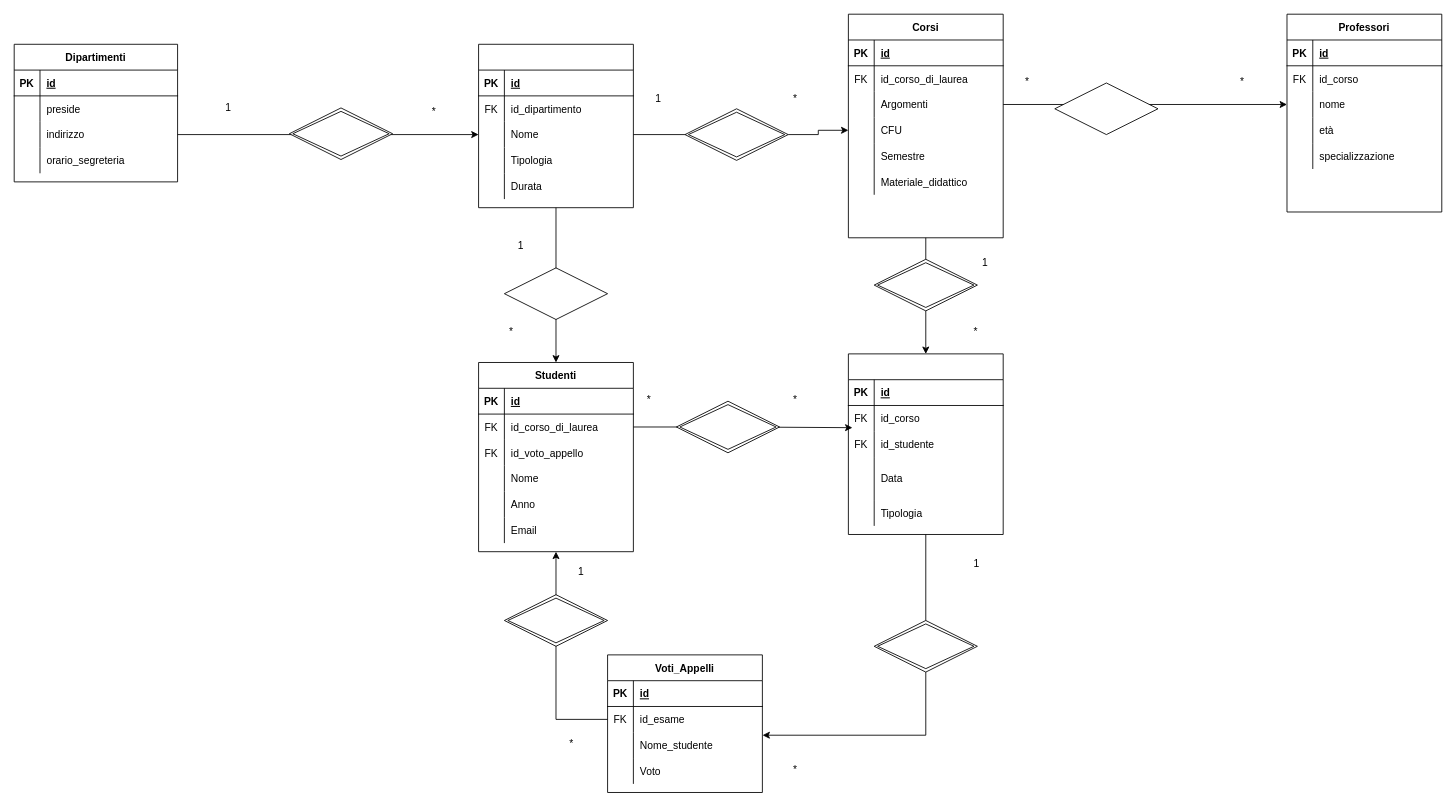
This 1456x807 diagram has some shape labels left out. Each missing label, with the box of its shape:
Corsi_di_laurea: (478, 43, 633, 208)
Esami: (848, 353, 1003, 534)
